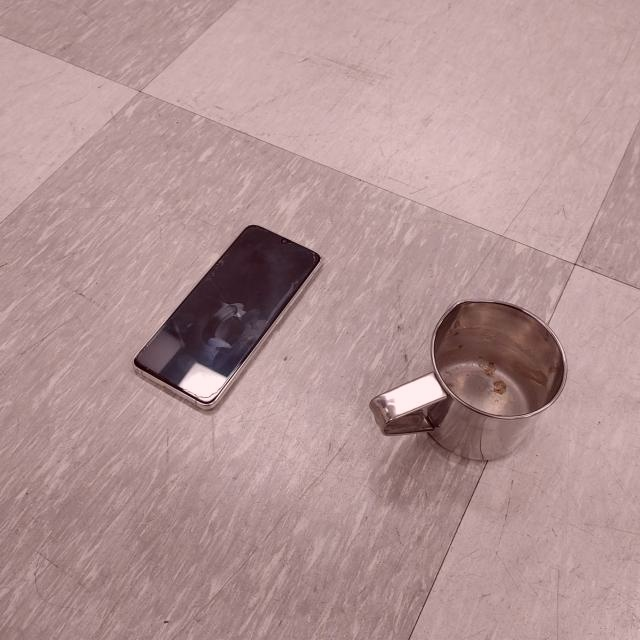cup: (367, 299, 566, 461)
phone: (130, 221, 323, 413)
